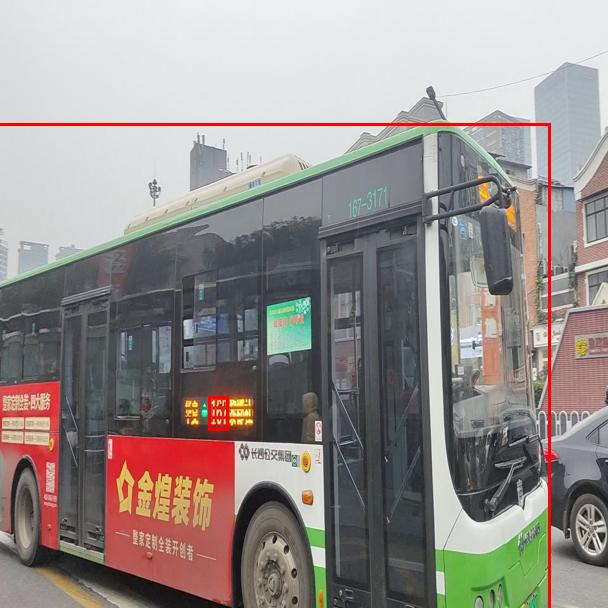screen: (208, 396, 228, 430)
